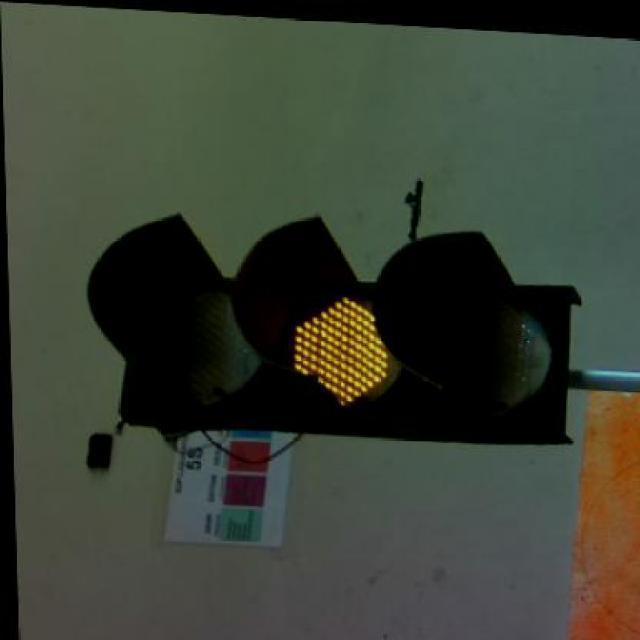yellow_light: (87, 215, 605, 443)
